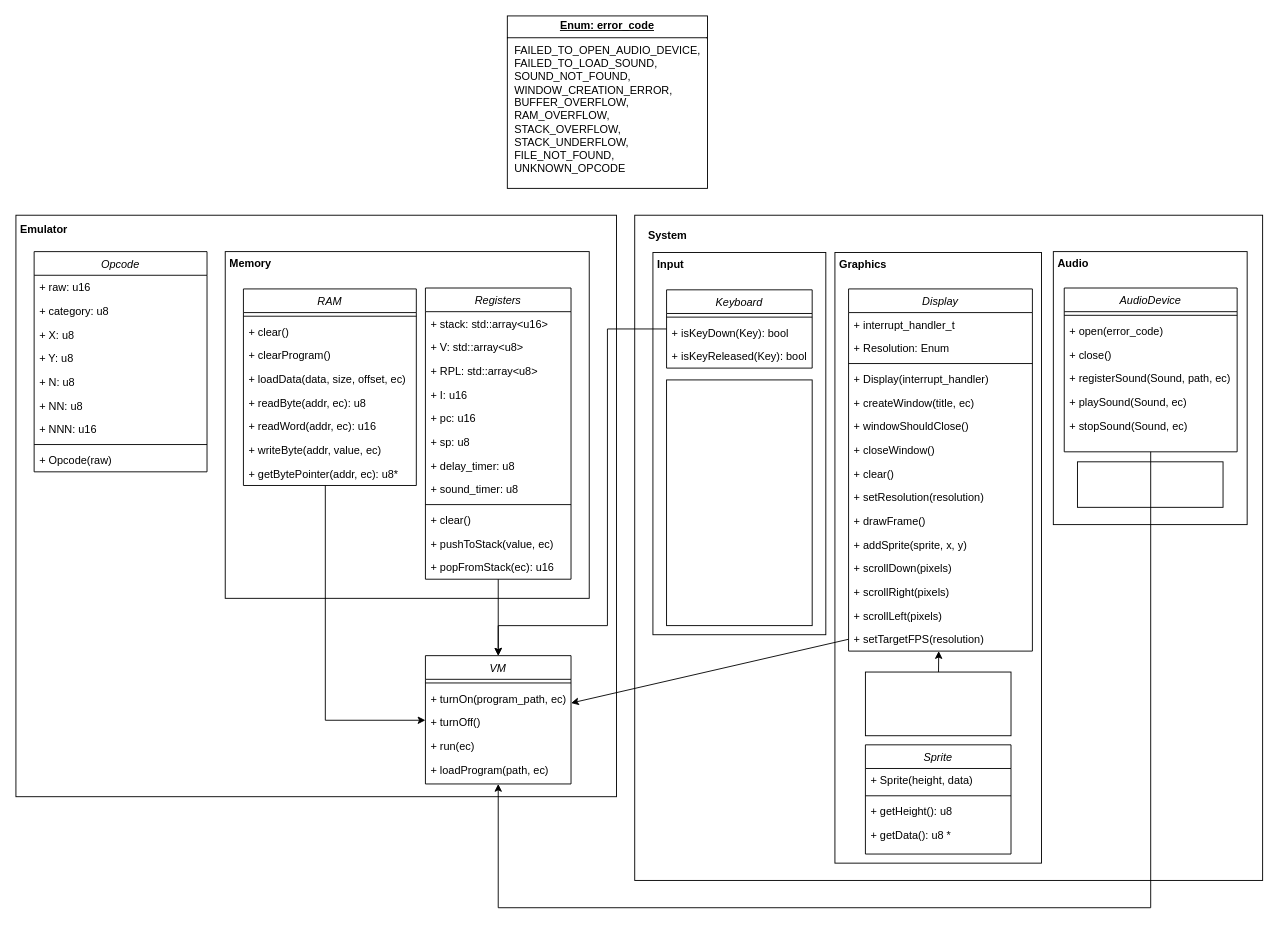
Image size: 1279x931. Some labels were removed from this diagram. The centre of each missing label's shape, as x and y in pixels:
"Enum: Key ONE TWO THREE FOUR Q W E R A S D F Z X C V" belongs at pixel 739 502.
"Enum: Resolution LOW_RES HIGH_RES" belongs at pixel 937 703.
"Enum: Sound BEEP" belongs at pixel 1150 484.
